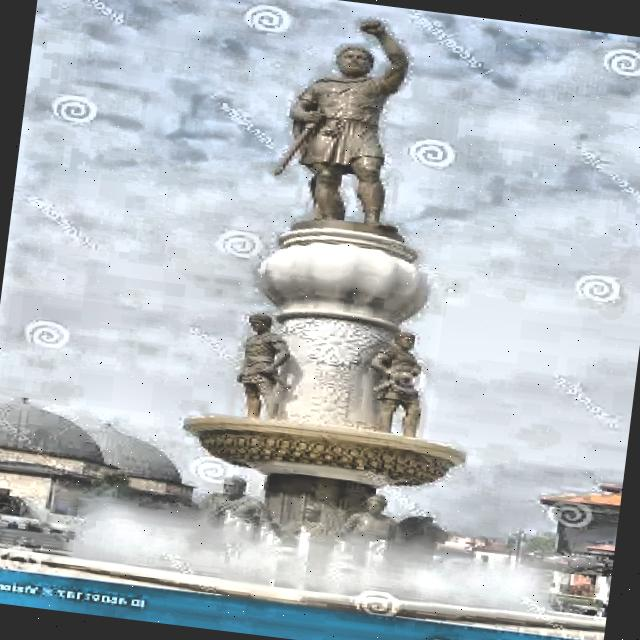Philip II of Macedonia: (162, 0, 533, 565)
